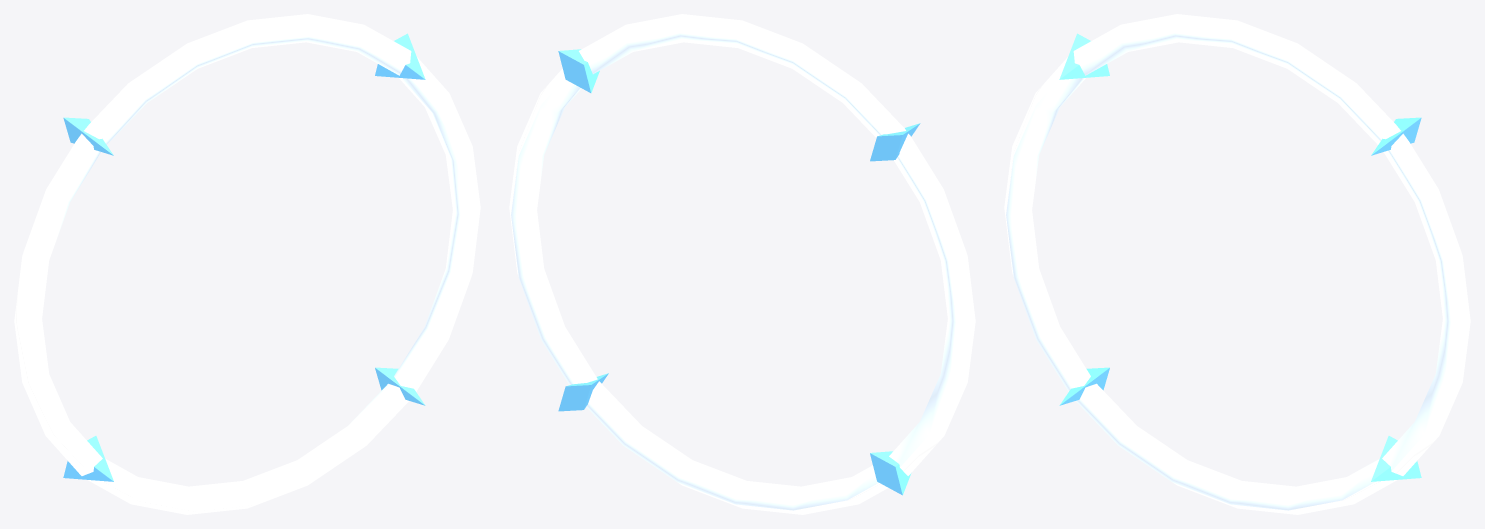
File: updraft-ring.glb
3 renders of one model, left to right at view 1: azimuth 30°, elevation 25°; view 2: azimuth 150°, elevation 25°; view 3: azimuth 330°, elevation 25°, orthographic.
Parts seen in each view (by area): view 1: updraft-ring; view 2: updraft-ring; view 3: updraft-ring.
Boxes of the visible parts, x1,y1,x2,y2 form: updraft-ring: (14,14,480,514); updraft-ring: (509,14,975,514); updraft-ring: (1004,14,1470,514).
Size of the model in its own units: 7.2 by 7.2 by 0.92.
